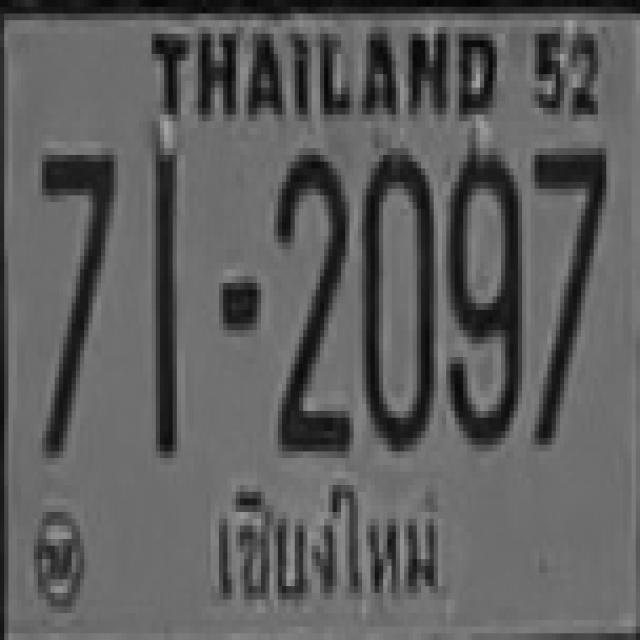0: (360, 148, 432, 445)
1: (149, 148, 175, 452)
2: (274, 148, 345, 452)
7: (38, 148, 114, 452), (528, 141, 604, 438), (38, 148, 114, 357)
9: (446, 148, 518, 438)
ChiangMai: (200, 469, 451, 612)
